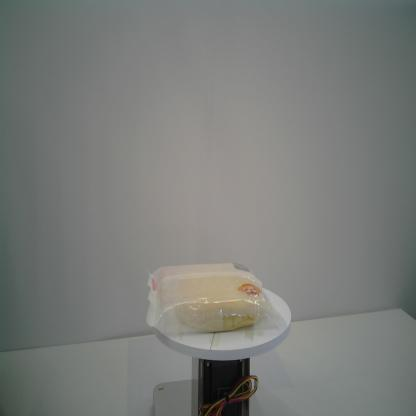Dessert: (141, 257, 289, 338)
